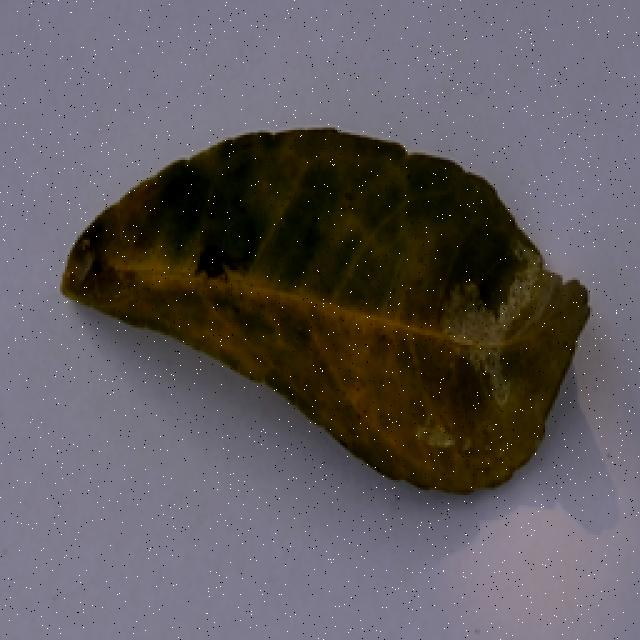greening: (52, 124, 604, 501)
